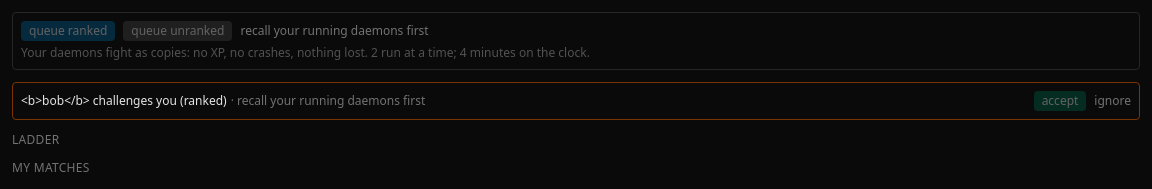
Test: ArenaPanel challenges › does not accept while blocked, and ignore dismisses
expect the button "accept" is disabled: met, box [1034,91,1086,111]
Click the button with test id "arena-ignore-c1": (1113, 101) [1094,91,1131,111]
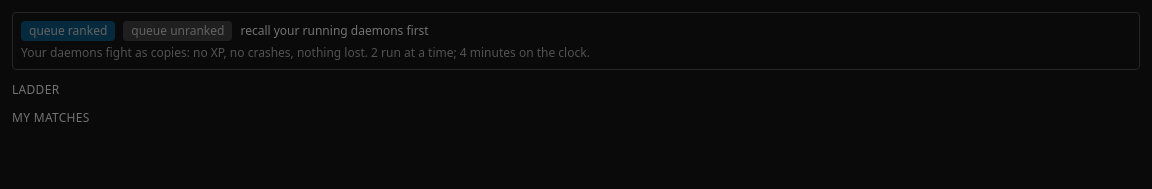
expect the element with test id "arena-challenge" is gone: met
